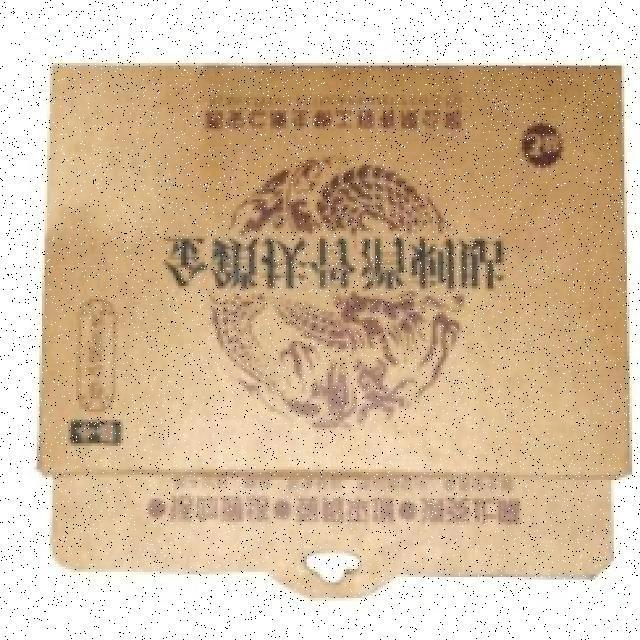box: (57, 46, 632, 589)
